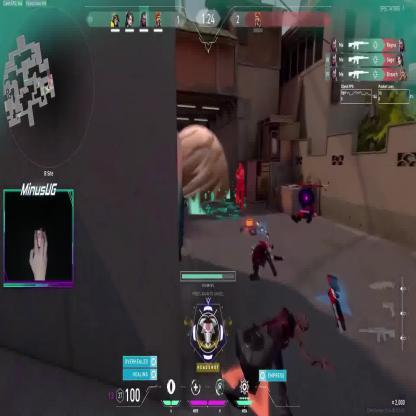enemy: (235, 161, 245, 210)
enemy_head: (238, 160, 242, 170)
